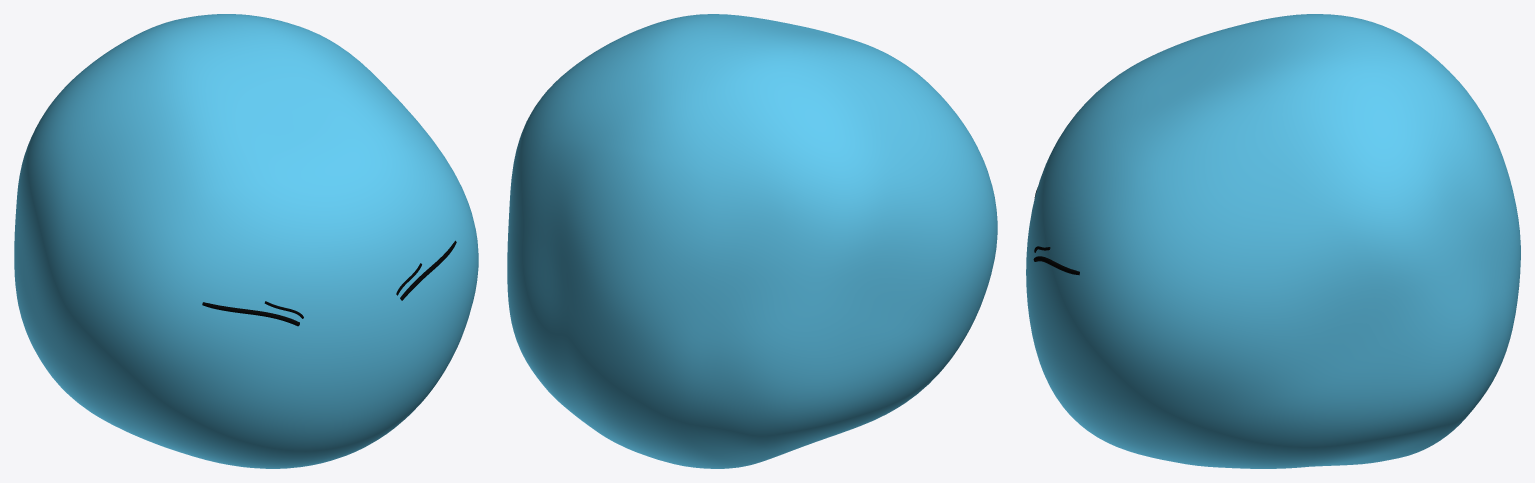
File: slime.fbx
3 views of the same model, side by side, from view 1: azimuth 30°, elevation 25°; view 2: azimuth 150°, elevation 25°; view 3: azimuth 270°, elevation 25° (orthographic). The views are drawn at different scales.
Visible parts, largest first — view 1: Cube, NurbsPath; view 2: Cube; view 3: Cube.
Part boxes in pixels (bbox=[...]): Cube: bbox=[14, 14, 478, 468]; NurbsPath: bbox=[202, 240, 456, 326]; Cube: bbox=[507, 14, 997, 468]; Cube: bbox=[1026, 14, 1520, 468].
Size of the model in its own units: 108 by 101 by 111.
